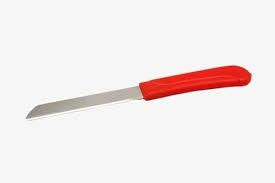Knife: (25, 64, 251, 119)
